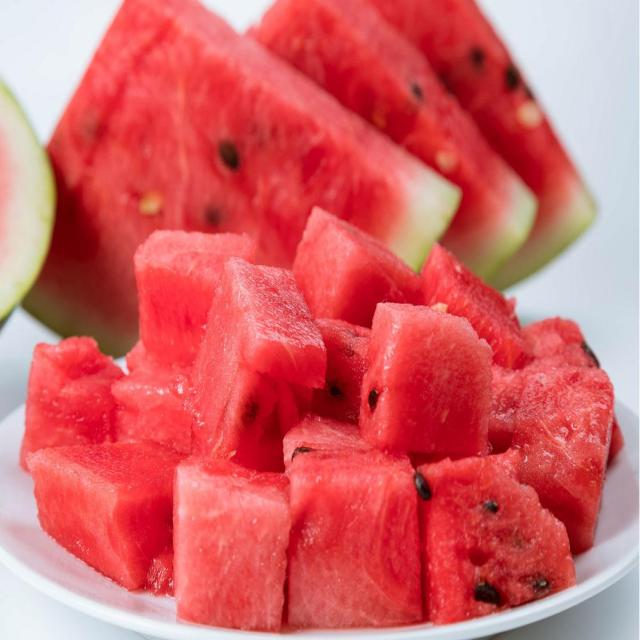watermelon: (18, 0, 460, 371), (235, 1, 540, 309), (368, 0, 601, 304), (185, 248, 327, 470), (413, 441, 581, 627), (25, 435, 190, 596), (284, 438, 424, 627), (169, 447, 292, 635), (502, 360, 617, 550), (133, 228, 253, 395), (359, 296, 487, 446), (286, 200, 421, 339), (20, 334, 116, 490), (414, 244, 532, 368)
